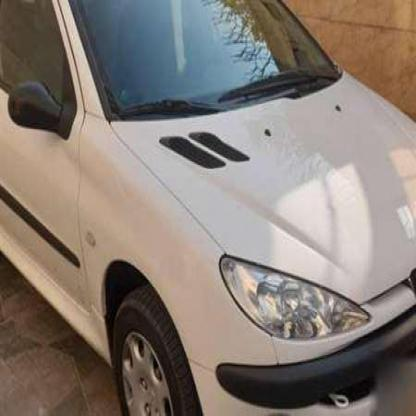car: (0, 0, 389, 413)
